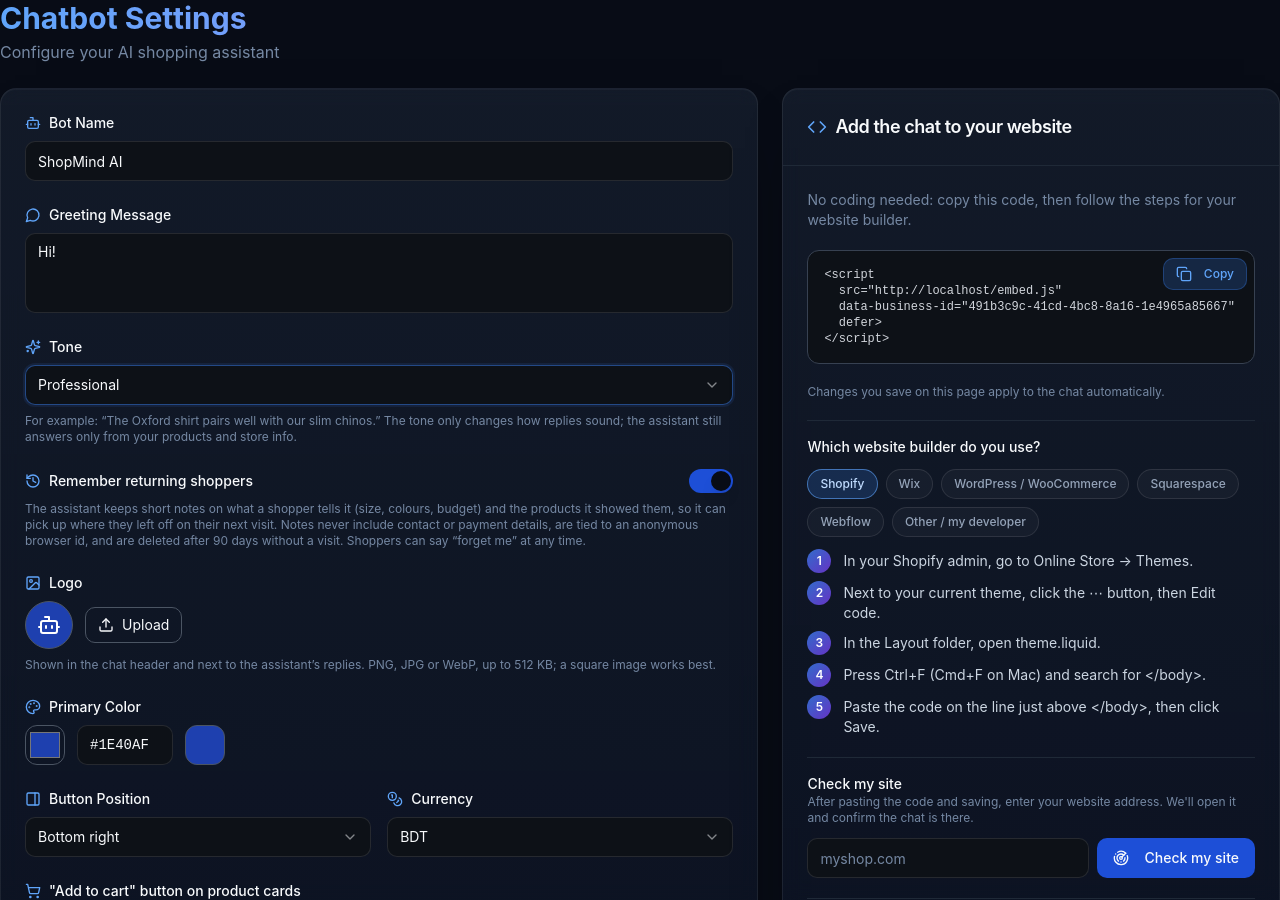
Test: ChatbotSettings: tone and logo › loads the saved tone and saves a new one
Later steps or results of the test are not shown.
Press ArrowDown in the dropdown named "Tone", box [25,365,733,405]
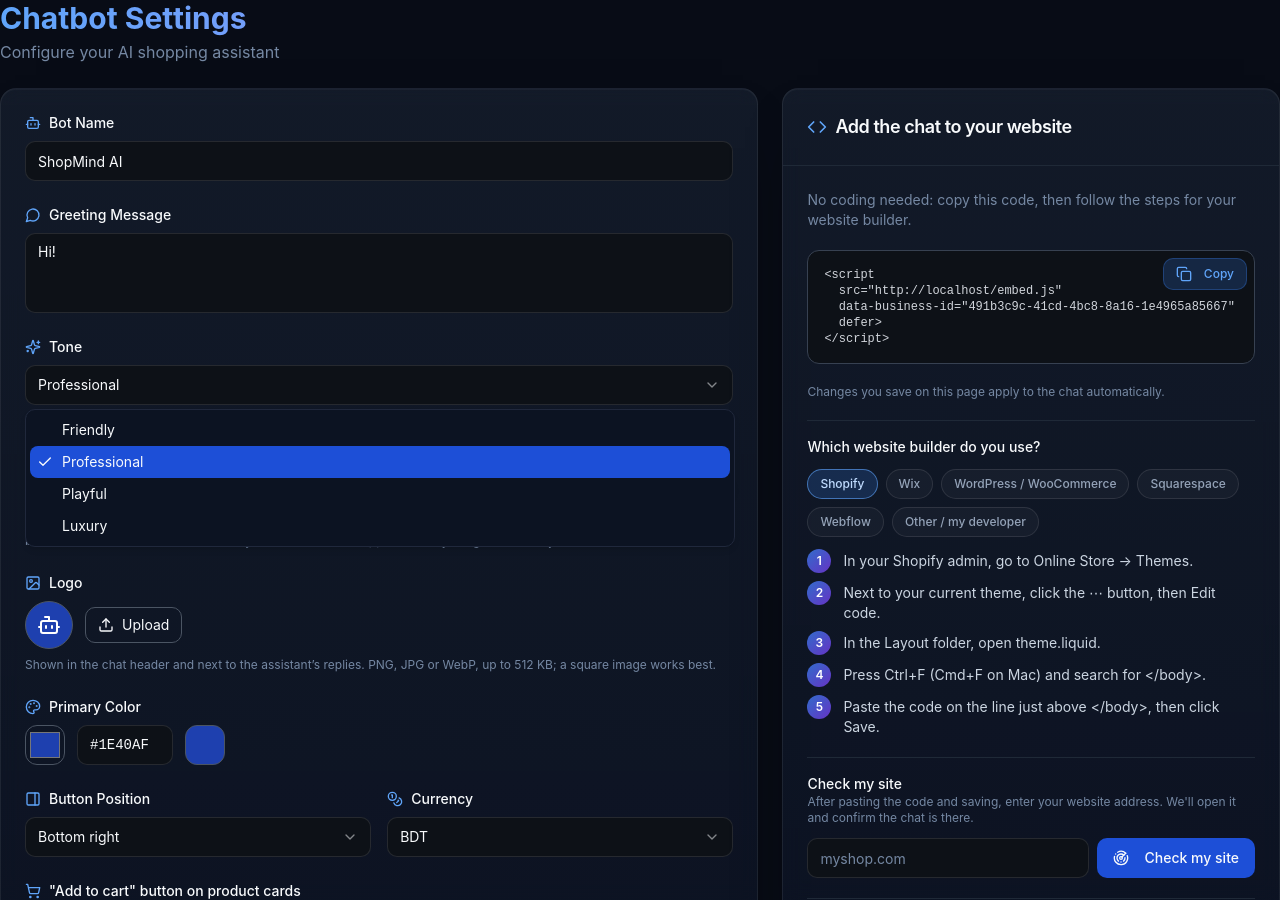
Click the option "Luxury" at point(85, 526), box [62,517,108,534]
(page scrolled)
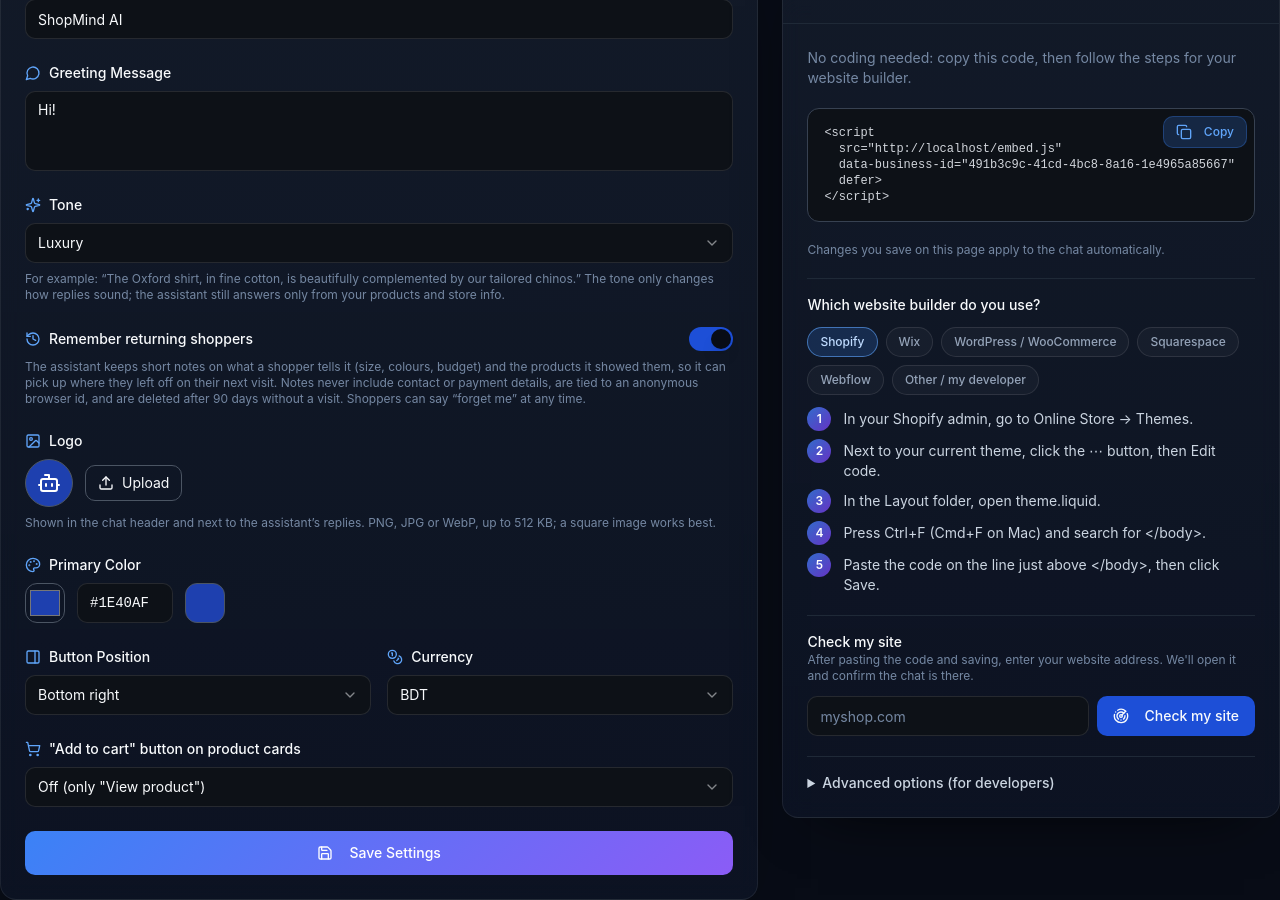
Expected: the dropdown named "Tone" reads "Luxury", [25,223,733,263]
Expected: the text "beautifully complemented" is shown, [107,271,576,286]
